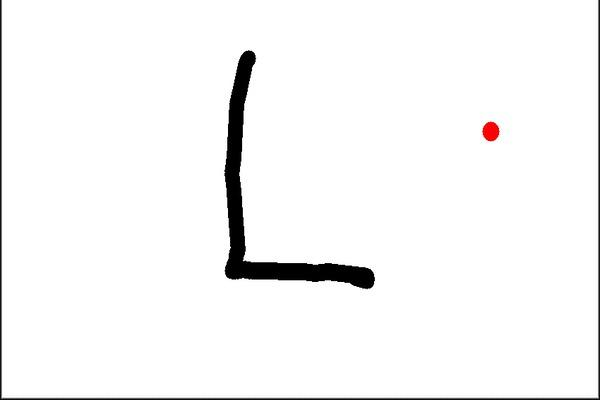L: (212, 41, 386, 297)
